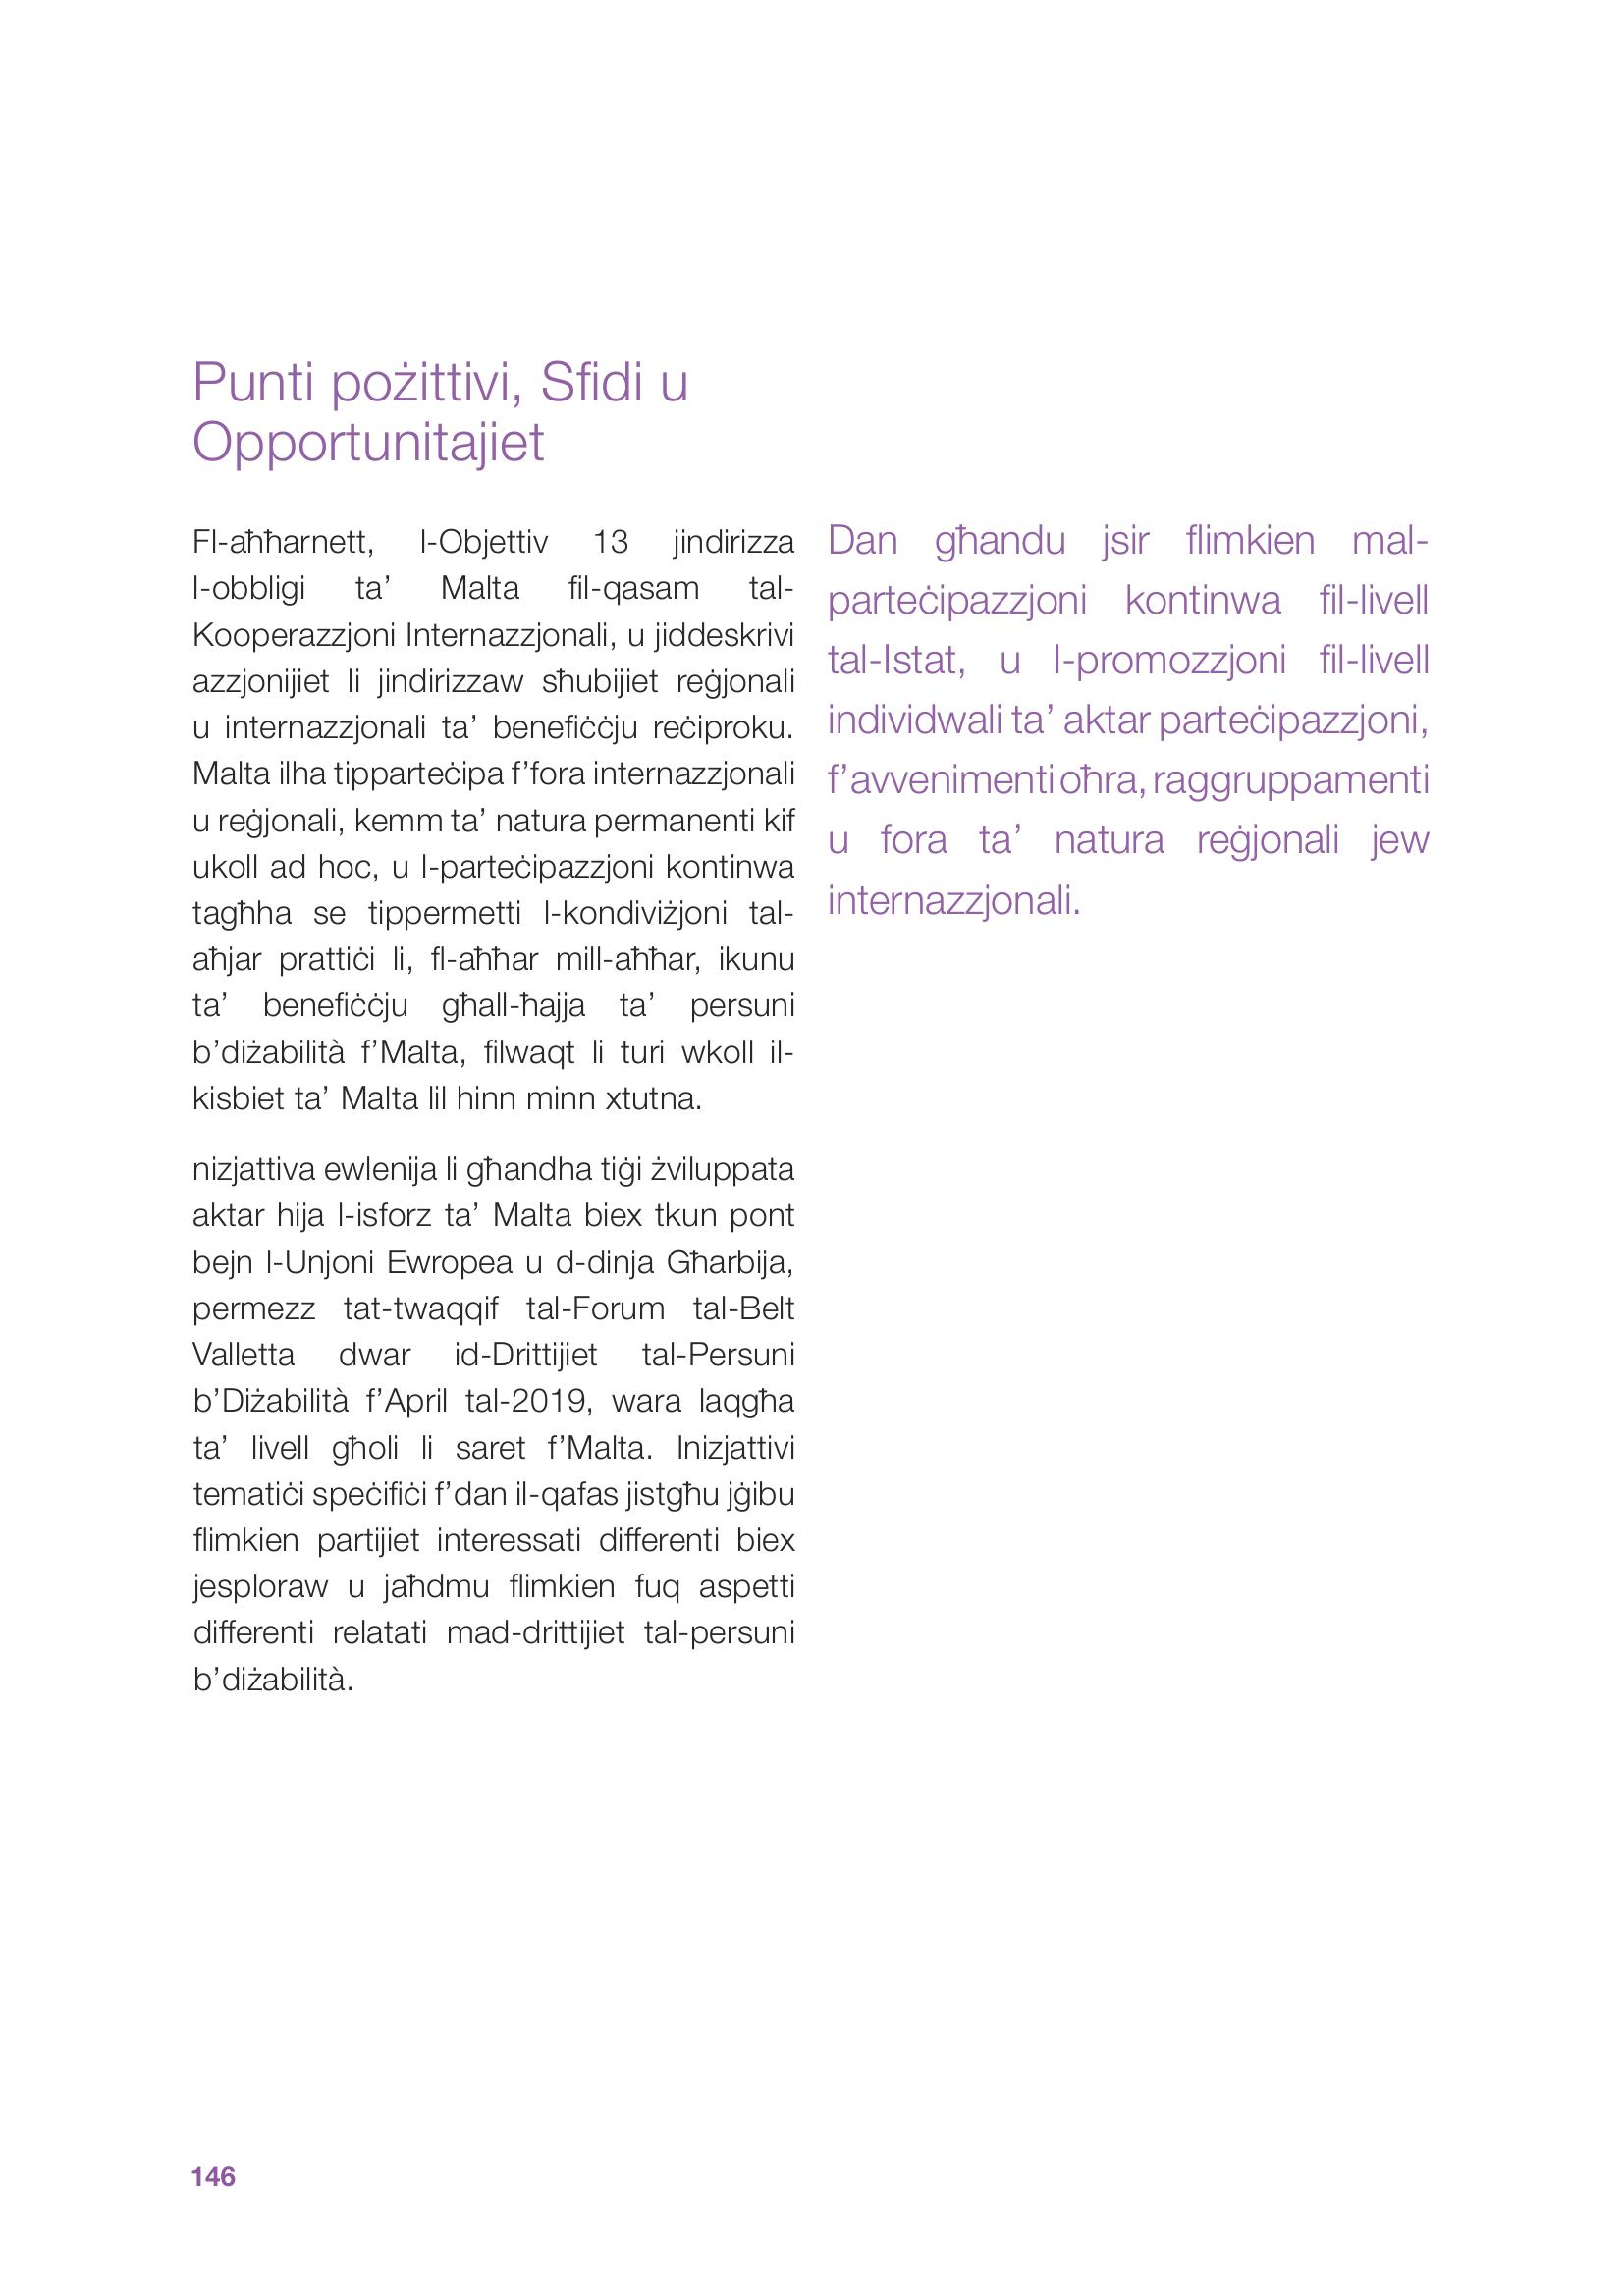text: (155, 339, 808, 1715), (810, 483, 1454, 942)
